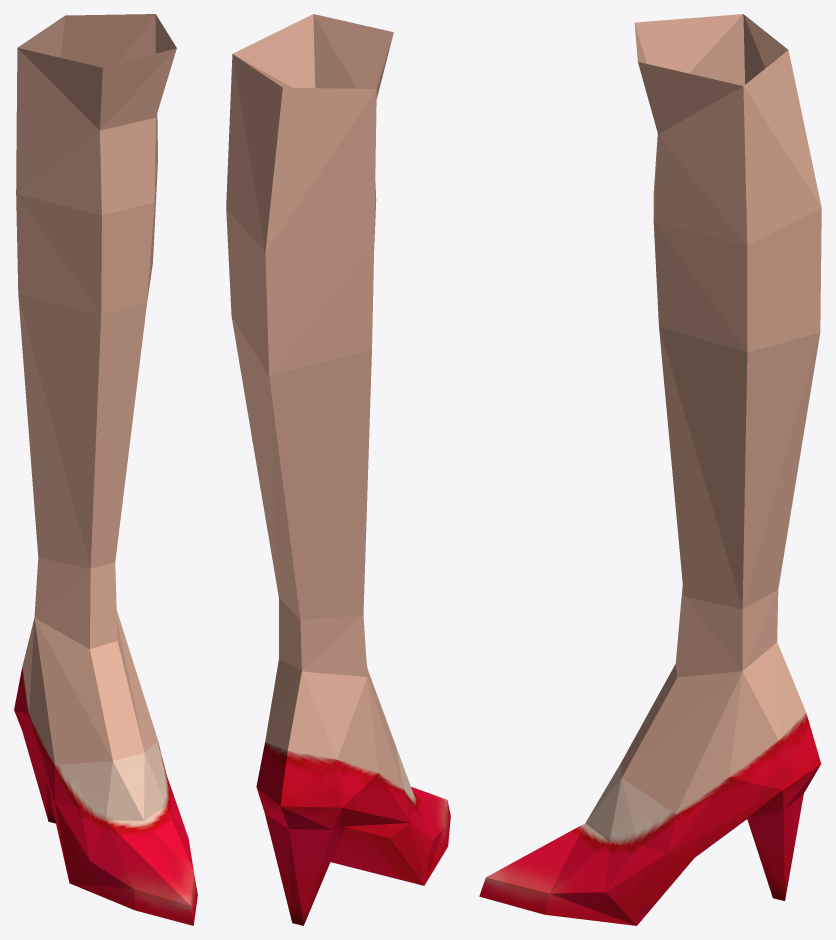
Rendered from PeachLleg.obj.
3 views of the same model, side by side, from view 1: azimuth 30°, elevation 25°; view 2: azimuth 150°, elevation 25°; view 3: azimuth 270°, elevation 25° (orthographic). The views are drawn at different scales.
Parts seen in each view (by area): view 1: PeachLleg; view 2: PeachLleg; view 3: PeachLleg.
Part boxes in pixels (box(x1,y1,x2,y2)): PeachLleg: box(14, 14, 197, 925); PeachLleg: box(226, 14, 450, 925); PeachLleg: box(479, 14, 821, 925).
Bounding box in the file's own units: 9.9 × 53.7 × 19.28.
1 material, 1 textured.
